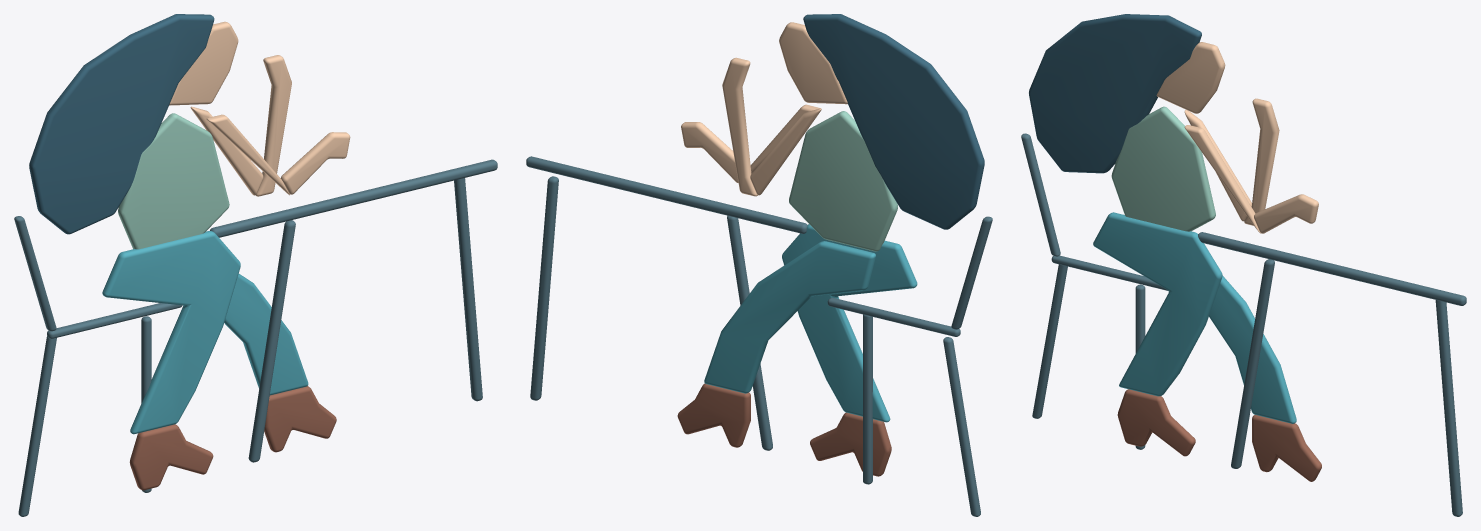
The model's file is GirlReadingTable.glb.
3 views of the same model, side by side, from view 1: azimuth 30°, elevation 25°; view 2: azimuth 150°, elevation 25°; view 3: azimuth 330°, elevation 25° (orthographic). The views are drawn at different scales.
Visible parts, largest first — view 1: Girl_Hair, Girl_Leg_Front, Girl_Torso, Girl_Leg_Back, Table_Top, Girl_Shoe_Front, Girl_Face, Girl_Shoe_Back, Table_Leg_Front, Table_Leg_Back, Girl_Arm_Chin_Lower, Chair_Leg_Back (+6 smaller); view 2: Girl_Hair, Girl_Torso, Girl_Leg_Back, Girl_Leg_Front, Table_Top, Girl_Face, Girl_Shoe_Back, Table_Leg_Back, Girl_Shoe_Front, Girl_Arm_Chin_Lower, Chair_Leg_Back, Table_Leg_Front (+6 smaller); view 3: Girl_Hair, Girl_Leg_Front, Girl_Torso, Girl_Leg_Back, Table_Top, Girl_Shoe_Front, Girl_Face, Girl_Shoe_Back, Table_Leg_Back, Table_Leg_Front, Girl_Arm_Chin_Lower, Chair_Leg_Back (+6 smaller).
Boxes of the visible parts, x1,y1,x2,y2 form: Girl_Hair: (29, 14, 214, 234); Girl_Leg_Front: (102, 231, 240, 434); Girl_Torso: (118, 113, 229, 249); Girl_Leg_Back: (224, 273, 308, 395); Table_Top: (210, 159, 497, 237); Girl_Shoe_Front: (129, 424, 213, 490); Girl_Face: (169, 21, 238, 105); Girl_Shoe_Back: (264, 386, 336, 452); Table_Leg_Front: (248, 220, 295, 462); Table_Leg_Back: (454, 178, 482, 401); Girl_Arm_Chin_Lower: (256, 55, 291, 196); Chair_Leg_Back: (18, 336, 56, 516); Girl_Hair: (803, 14, 984, 229); Girl_Torso: (789, 111, 897, 251); Girl_Leg_Back: (704, 241, 875, 393); Girl_Leg_Front: (782, 224, 917, 422); Table_Top: (526, 156, 807, 233); Girl_Face: (779, 22, 847, 104); Girl_Shoe_Back: (677, 383, 750, 447); Table_Leg_Back: (530, 176, 558, 400); Girl_Shoe_Front: (810, 412, 891, 476); Girl_Arm_Chin_Lower: (722, 57, 757, 196); Chair_Leg_Back: (943, 337, 980, 516); Table_Leg_Front: (727, 215, 772, 450); Girl_Hair: (1029, 14, 1201, 173); Girl_Leg_Front: (1093, 212, 1222, 396); Girl_Torso: (1111, 106, 1215, 231); Girl_Leg_Back: (1209, 276, 1296, 423); Table_Top: (1198, 232, 1466, 305); Girl_Shoe_Front: (1117, 389, 1195, 456); Girl_Face: (1156, 42, 1225, 113); Girl_Shoe_Back: (1252, 415, 1321, 481); Table_Leg_Back: (1435, 300, 1462, 516); Table_Leg_Front: (1231, 259, 1274, 468); Girl_Arm_Chin_Lower: (1244, 98, 1279, 225); Chair_Leg_Back: (1032, 264, 1067, 418).
Bounding box in the file's own units: 15.25 × 14.35 × 0.9809.
